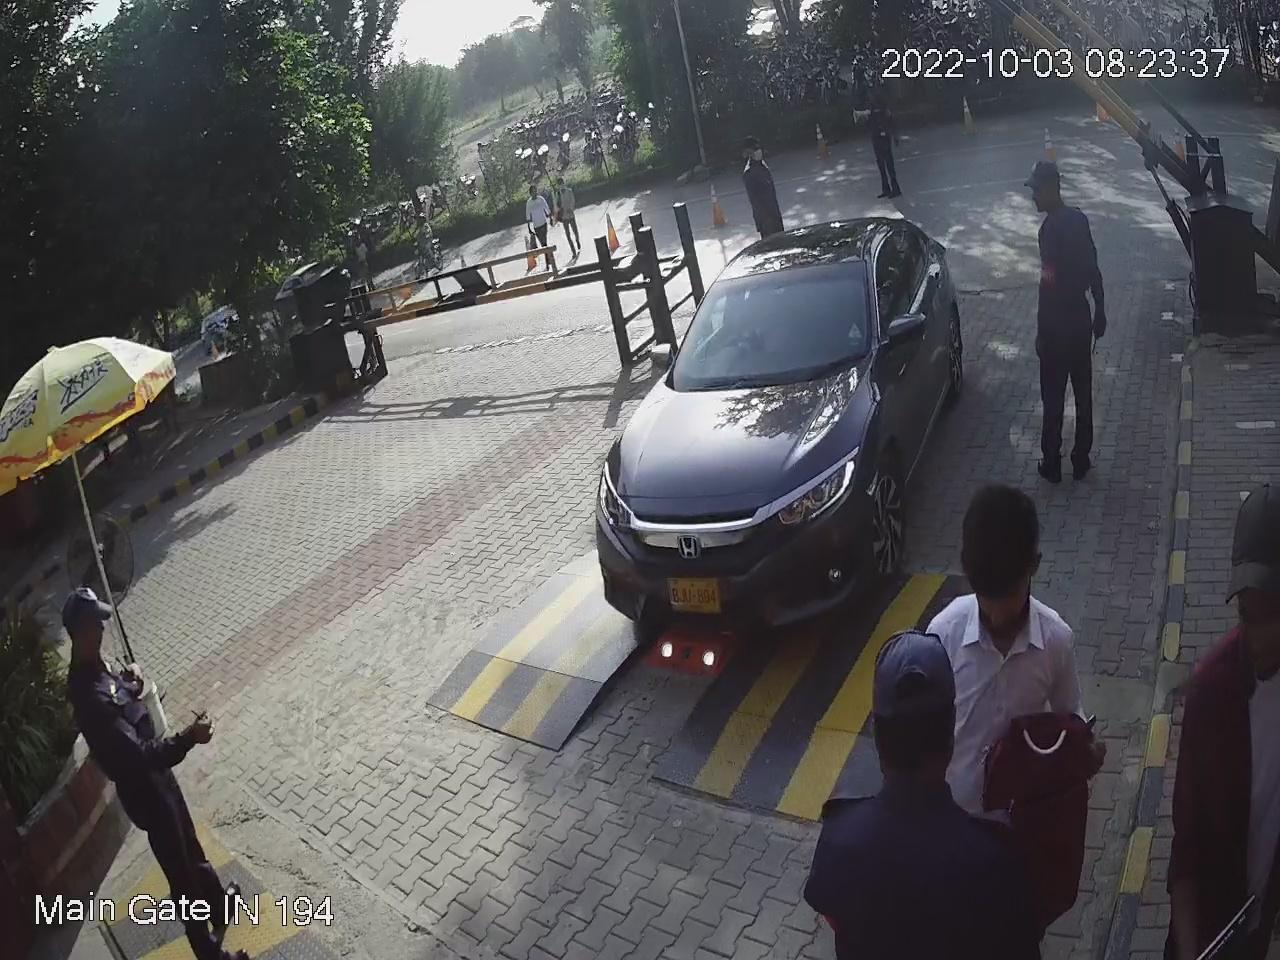windshield: (660, 245, 876, 387)
